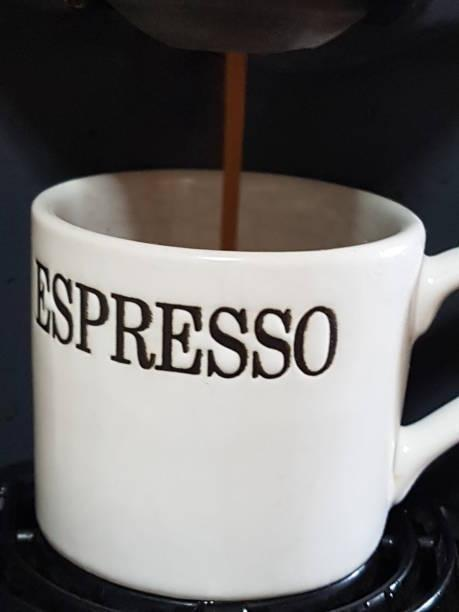cup-handle: (26, 166, 458, 611)
